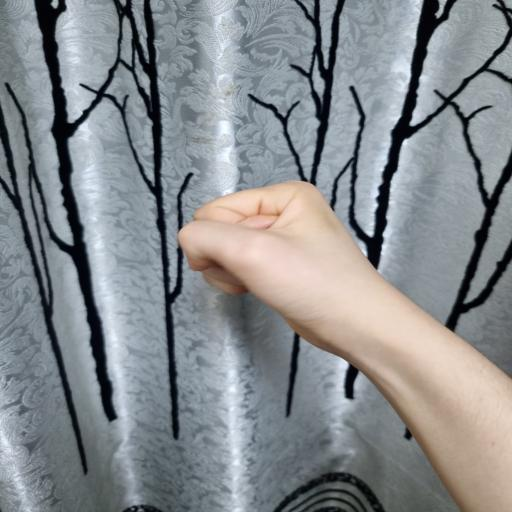Rock: (176, 178, 390, 363)
